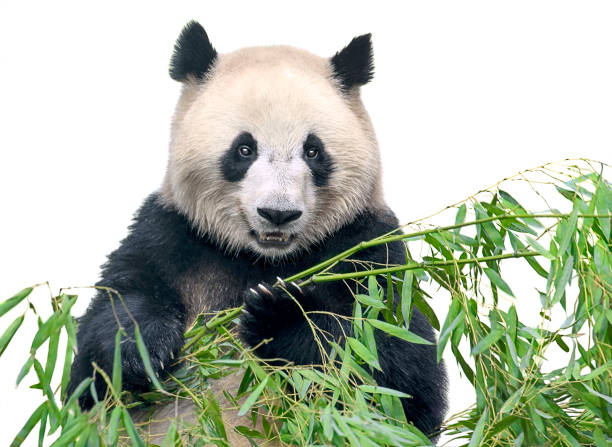panda: (99, 3, 457, 282)
